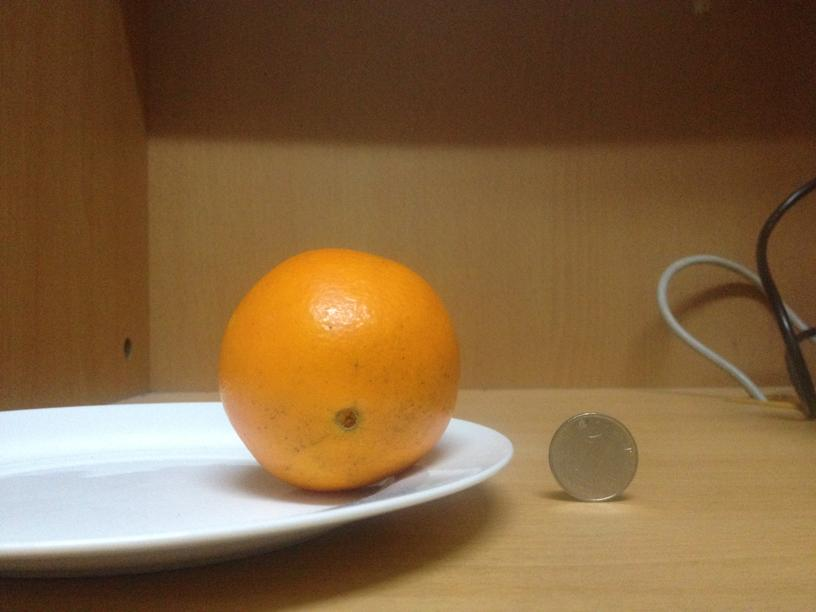coin: (549, 412, 639, 502)
orange: (215, 251, 463, 491)
